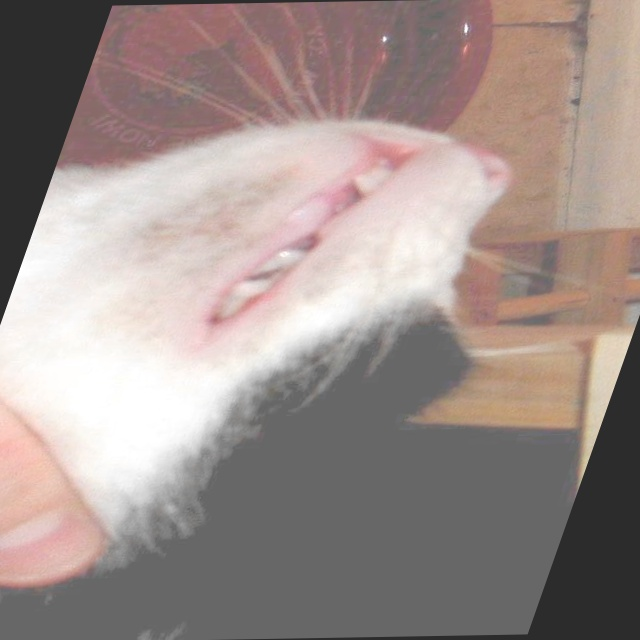acne: (115, 161, 312, 289)
